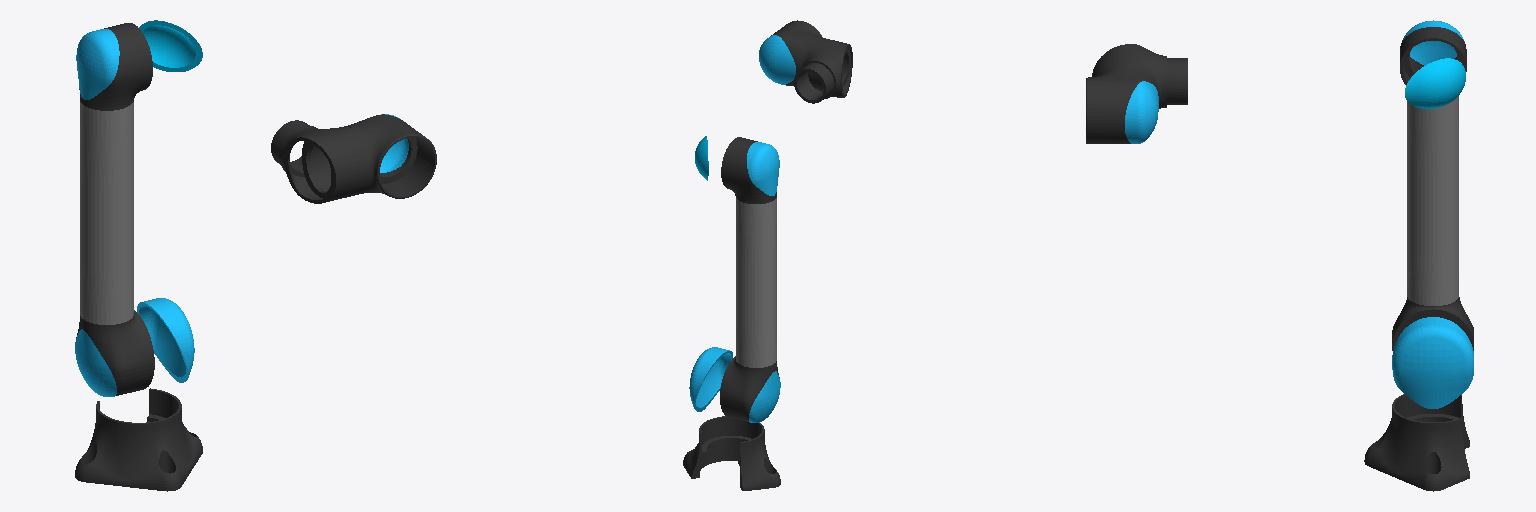
The robot description file, URDF, robot "obot_urdf":
<?xml version="1.0" ?>
<!-- =================================================================================== -->
<!-- |    This document was autogenerated by xacro from urdf/obot_urdf.xacro        | -->
<!-- |    EDITING THIS FILE BY HAND IS NOT RECOMMENDED                                 | -->
<!-- =================================================================================== -->
<robot name="obot_urdf">
  <material name="Aluminum - Anodized Rough (Grey)">
    <color rgba="0.5372549019607843 0.5372549019607843 0.5372549019607843 1.0"/>
  </material>
  <material name="Steel - Satin">
    <color rgba="0.6274509803921569 0.6274509803921569 0.6274509803921569 1.0"/>
  </material>
  <material name="black">
    <color rgba="0.25098039215686274 0.25098039215686274 0.25098039215686274 1.0"/>
  </material>
  <material name="Opaque(39,196,255)">
    <color rgba="0.15294117647058825 0.7686274509803922 1.0 1.0"/>
  </material>
  <material name="aluminum">
    <color rgba="0.5372549019607843 0.5372549019607843 0.5372549019607843 1.0"/>
  </material>
  <material name="blue2">
    <color rgba="0.058823529411764705 0.8 1.0 1.0"/>
  </material>
  <material name="blue1">
    <color rgba="0.15294117647058825 0.7686274509803922 1.0 1.0"/>
  </material>
  <transmission name="j1_tran">
    <type>transmission_interface/SimpleTransmission</type>
    <joint name="j1">
      <hardwareInterface>hardware_interface/EffortJointInterface</hardwareInterface>
    </joint>
    <actuator name="j1_actr">
      <hardwareInterface>hardware_interface/EffortJointInterface</hardwareInterface>
      <mechanicalReduction>1</mechanicalReduction>
    </actuator>
  </transmission>
  <transmission name="j2_tran">
    <type>transmission_interface/SimpleTransmission</type>
    <joint name="j2">
      <hardwareInterface>hardware_interface/EffortJointInterface</hardwareInterface>
    </joint>
    <actuator name="j2_actr">
      <hardwareInterface>hardware_interface/EffortJointInterface</hardwareInterface>
      <mechanicalReduction>1</mechanicalReduction>
    </actuator>
  </transmission>
  <transmission name="j3_tran">
    <type>transmission_interface/SimpleTransmission</type>
    <joint name="j3">
      <hardwareInterface>hardware_interface/EffortJointInterface</hardwareInterface>
    </joint>
    <actuator name="j3_actr">
      <hardwareInterface>hardware_interface/EffortJointInterface</hardwareInterface>
      <mechanicalReduction>1</mechanicalReduction>
    </actuator>
  </transmission>
  <transmission name="j0_tran">
    <type>transmission_interface/SimpleTransmission</type>
    <joint name="j0">
      <hardwareInterface>hardware_interface/EffortJointInterface</hardwareInterface>
    </joint>
    <actuator name="j0_actr">
      <hardwareInterface>hardware_interface/EffortJointInterface</hardwareInterface>
      <mechanicalReduction>1</mechanicalReduction>
    </actuator>
  </transmission>
  <transmission name="j4_tran">
    <type>transmission_interface/SimpleTransmission</type>
    <joint name="j4">
      <hardwareInterface>hardware_interface/EffortJointInterface</hardwareInterface>
    </joint>
    <actuator name="j4_actr">
      <hardwareInterface>hardware_interface/EffortJointInterface</hardwareInterface>
      <mechanicalReduction>1</mechanicalReduction>
    </actuator>
  </transmission>
  <gazebo>
    <plugin filename="libgazebo_ros_control.so" name="control"/>
  </gazebo>
  <gazebo reference="base_link">
    <material>Gazebo/Silver</material>
    <mu1>0.2</mu1>
    <mu2>0.2</mu2>
    <selfCollide>true</selfCollide>
    <gravity>true</gravity>
  </gazebo>
  <gazebo reference="OS_Shoulder_connector_06c_1">
    <material>Gazebo/Silver</material>
    <mu1>0.2</mu1>
    <mu2>0.2</mu2>
    <selfCollide>true</selfCollide>
  </gazebo>
  <gazebo reference="OS_Connector_shoulder_08_1">
    <material>Gazebo/Silver</material>
    <mu1>0.2</mu1>
    <mu2>0.2</mu2>
    <selfCollide>true</selfCollide>
  </gazebo>
  <gazebo reference="OS_Wrist_connector_01_1">
    <material>Gazebo/Silver</material>
    <mu1>0.2</mu1>
    <mu2>0.2</mu2>
    <selfCollide>true</selfCollide>
  </gazebo>
  <gazebo reference="OS_Shoulder_connector_01d_1">
    <material>Gazebo/Silver</material>
    <mu1>0.2</mu1>
    <mu2>0.2</mu2>
    <selfCollide>true</selfCollide>
  </gazebo>
  <gazebo reference="OS_Tool_Adapter_1">
    <material>Gazebo/Silver</material>
    <mu1>0.2</mu1>
    <mu2>0.2</mu2>
    <selfCollide>true</selfCollide>
  </gazebo>
  <gazebo reference="OS_Upper_arm_tube_1">
    <material>Gazebo/Silver</material>
    <mu1>0.2</mu1>
    <mu2>0.2</mu2>
    <selfCollide>true</selfCollide>
  </gazebo>
  <gazebo reference="OS_Connector_Elbow_07b_1">
    <material>Gazebo/Silver</material>
    <mu1>0.2</mu1>
    <mu2>0.2</mu2>
    <selfCollide>true</selfCollide>
  </gazebo>
  <gazebo reference="OS_Upper_arm_tube_2">
    <material>Gazebo/Silver</material>
    <mu1>0.2</mu1>
    <mu2>0.2</mu2>
    <selfCollide>true</selfCollide>
  </gazebo>
  <gazebo reference="OS_Connector_Elbow_07e_1">
    <material>Gazebo/Silver</material>
    <mu1>0.2</mu1>
    <mu2>0.2</mu2>
    <selfCollide>true</selfCollide>
  </gazebo>
  <link name="/base_link">
    <inertial>
      <origin rpy="0 0 0" xyz="5.788644740024379e-16 -1.1926662407975113e-07 0.019419883704314026"/>
      <mass value="1.0327024293593068"/>
      <inertia ixx="0.001299" ixy="-0.0" ixz="-0.0" iyy="0.001299" iyz="0.0" izz="0.002125"/>
    </inertial>
    <visual>
      <origin rpy="0 0 0" xyz="0 0 0"/>
      <geometry>
        <mesh filename="package://obot_urdf_description/meshes/base_link_obot_urdf v0_Body1_base_link.stl" scale="0.001 0.001 0.001"/>
      </geometry>
      <material name="black">
        <color rgba="0.25098039215686274 0.25098039215686274 0.25098039215686274 1.0"/>
      </material>
    </visual>
    <visual>
      <origin rpy="0 0 0" xyz="0 0 0"/>
      <geometry>
        <mesh filename="package://obot_urdf_description/meshes/base_link_obot_urdf v0_Body2_base_link.stl" scale="0.001 0.001 0.001"/>
      </geometry>
      <material name="black">
        <color rgba="0.25098039215686274 0.25098039215686274 0.25098039215686274 1.0"/>
      </material>
    </visual>
    <collision>
      <origin rpy="0 0 0" xyz="0 0 0"/>
      <geometry>
        <mesh filename="package://obot_urdf_description/meshes/base_link.stl" scale="0.001 0.001 0.001"/>
      </geometry>
    </collision>
  </link>
  <link name="/OS_Shoulder_connector_06c_1">
    <inertial>
      <origin rpy="0 0 0" xyz="-0.03039370289078793 1.3251316521099543e-08 0.010093838443597597"/>
      <mass value="0.5649312746649212"/>
      <inertia ixx="0.000733" ixy="0.0" ixz="-4e-06" iyy="0.000572" iyz="-0.0" izz="0.000368"/>
    </inertial>
    <visual>
      <origin rpy="0 0 0" xyz="0.006 0.0 -0.1215"/>
      <geometry>
        <mesh filename="package://obot_urdf_description/meshes/OS_Shoulder_connector_06c_1_obot_urdf v0_Body1_OS_Shoulder_connector_06c_1.stl" scale="0.001 0.001 0.001"/>
      </geometry>
      <material name="black">
        <color rgba="0.25098039215686274 0.25098039215686274 0.25098039215686274 1.0"/>
      </material>
    </visual>
    <visual>
      <origin rpy="0 0 0" xyz="0.006 0.0 -0.1215"/>
      <geometry>
        <mesh filename="package://obot_urdf_description/meshes/OS_Shoulder_connector_06c_1_obot_urdf v0_Body2_OS_Shoulder_connector_06c_1.stl" scale="0.001 0.001 0.001"/>
      </geometry>
      <material name="blue1">
        <color rgba="0.15294117647058825 0.7686274509803922 1.0 1.0"/>
      </material>
    </visual>
    <collision>
      <origin rpy="0 0 0" xyz="0.006 0.0 -0.1215"/>
      <geometry>
        <mesh filename="package://obot_urdf_description/meshes/OS_Shoulder_connector_06c_1.stl" scale="0.001 0.001 0.001"/>
      </geometry>
    </collision>
  </link>
  <link name="/OS_Connector_shoulder_08_1">
    <inertial>
      <origin rpy="0 0 0" xyz="0.027309309346106102 -0.013048790283129138 1.9964691722051953e-07"/>
      <mass value="0.4676784438857144"/>
      <inertia ixx="0.000444" ixy="3.4e-05" ixz="-0.0" iyy="0.000267" iyz="0.0" izz="0.000407"/>
    </inertial>
    <visual>
      <origin rpy="0 0 0" xyz="0.0035 0.0 -0.4215"/>
      <geometry>
        <mesh filename="package://obot_urdf_description/meshes/OS_Connector_shoulder_08_1_obot_urdf v0_Body1_OS_Connector_shoulder_08_1.stl" scale="0.001 0.001 0.001"/>
      </geometry>
      <material name="black">
        <color rgba="0.25098039215686274 0.25098039215686274 0.25098039215686274 1.0"/>
      </material>
    </visual>
    <visual>
      <origin rpy="0 0 0" xyz="0.0035 0.0 -0.4215"/>
      <geometry>
        <mesh filename="package://obot_urdf_description/meshes/OS_Connector_shoulder_08_1_obot_urdf v0_Body2_OS_Connector_shoulder_08_1.stl" scale="0.001 0.001 0.001"/>
      </geometry>
      <material name="blue2">
        <color rgba="0.058823529411764705 0.8 1.0 1.0"/>
      </material>
    </visual>
    <collision>
      <origin rpy="0 0 0" xyz="0.0035 0.0 -0.4215"/>
      <geometry>
        <mesh filename="package://obot_urdf_description/meshes/OS_Connector_shoulder_08_1.stl" scale="0.001 0.001 0.001"/>
      </geometry>
    </collision>
  </link>
  <link name="/OS_Wrist_connector_01_1">
    <inertial>
      <origin rpy="0 0 0" xyz="0.0285588469364604 -0.0004577057160622955 8.041520321855344e-08"/>
      <mass value="0.4901478983667687"/>
      <inertia ixx="0.000409" ixy="-3e-06" ixz="0.0" iyy="0.000463" iyz="-0.0" izz="0.00043"/>
    </inertial>
    <visual>
      <origin rpy="0 0 0" xyz="-0.0583 0.3 -0.4215"/>
      <geometry>
        <mesh filename="package://obot_urdf_description/meshes/OS_Wrist_connector_01_1_obot_urdf v0_Body1_OS_Wrist_connector_01_1.stl" scale="0.001 0.001 0.001"/>
      </geometry>
      <material name="black">
        <color rgba="0.25098039215686274 0.25098039215686274 0.25098039215686274 1.0"/>
      </material>
    </visual>
    <visual>
      <origin rpy="0 0 0" xyz="-0.0583 0.3 -0.4215"/>
      <geometry>
        <mesh filename="package://obot_urdf_description/meshes/OS_Wrist_connector_01_1_obot_urdf v0_Body2_OS_Wrist_connector_01_1.stl" scale="0.001 0.001 0.001"/>
      </geometry>
      <material name="blue1">
        <color rgba="0.15294117647058825 0.7686274509803922 1.0 1.0"/>
      </material>
    </visual>
    <collision>
      <origin rpy="0 0 0" xyz="-0.0583 0.3 -0.4215"/>
      <geometry>
        <mesh filename="package://obot_urdf_description/meshes/OS_Wrist_connector_01_1.stl" scale="0.001 0.001 0.001"/>
      </geometry>
    </collision>
  </link>
  <link name="/OS_Shoulder_connector_01d_1">
    <inertial>
      <origin rpy="0 0 0" xyz="0.012959388753636114 2.1853349424144736e-08 0.04081897310032624"/>
      <mass value="0.7652200389336291"/>
      <inertia ixx="0.001161" ixy="0.0" ixz="-0.000189" iyy="0.001026" iyz="-0.0" izz="0.00086"/>
    </inertial>
    <visual>
      <origin rpy="0 0 0" xyz="0.0 0.0 -0.0605"/>
      <geometry>
        <mesh filename="package://obot_urdf_description/meshes/OS_Shoulder_connector_01d_1_obot_urdf v0_Body1_OS_Shoulder_connector_01d_1.stl" scale="0.001 0.001 0.001"/>
      </geometry>
      <material name="blue1">
        <color rgba="0.15294117647058825 0.7686274509803922 1.0 1.0"/>
      </material>
    </visual>
    <visual>
      <origin rpy="0 0 0" xyz="0.0 0.0 -0.0605"/>
      <geometry>
        <mesh filename="package://obot_urdf_description/meshes/OS_Shoulder_connector_01d_1_obot_urdf v0_Body2_OS_Shoulder_connector_01d_1.stl" scale="0.001 0.001 0.001"/>
      </geometry>
      <material name="black">
        <color rgba="0.25098039215686274 0.25098039215686274 0.25098039215686274 1.0"/>
      </material>
    </visual>
    <collision>
      <origin rpy="0 0 0" xyz="0.0 0.0 -0.0605"/>
      <geometry>
        <mesh filename="package://obot_urdf_description/meshes/OS_Shoulder_connector_01d_1.stl" scale="0.001 0.001 0.001"/>
      </geometry>
    </collision>
  </link>
  <link name="/OS_Tool_Adapter_1">
    <inertial>
      <origin rpy="0 0 0" xyz="2.4091839634365897e-14 -0.012369036341301598 -8.212593333412066e-05"/>
      <mass value="0.4113331685848012"/>
      <inertia ixx="0.000148" ixy="0.0" ixz="-0.0" iyy="0.000256" iyz="-0.0" izz="0.000149"/>
    </inertial>
    <visual>
      <origin rpy="0 0 0" xyz="-0.0943 0.3385 -0.4215"/>
      <geometry>
        <mesh filename="package://obot_urdf_description/meshes/OS_Tool_Adapter_1_obot_urdf v0_Body1_OS_Tool_Adapter_1.stl" scale="0.001 0.001 0.001"/>
      </geometry>
      <material name="aluminum">
        <color rgba="0.5372549019607843 0.5372549019607843 0.5372549019607843 1.0"/>
      </material>
    </visual>
    <collision>
      <origin rpy="0 0 0" xyz="-0.0943 0.3385 -0.4215"/>
      <geometry>
        <mesh filename="package://obot_urdf_description/meshes/OS_Tool_Adapter_1.stl" scale="0.001 0.001 0.001"/>
      </geometry>
    </collision>
  </link>
  <link name="/OS_Upper_arm_tube_1">
    <inertial>
      <origin rpy="0 0 0" xyz="-3.885780586188048e-16 -1.813439160552377e-15 0.11050000000000013"/>
      <mass value="0.4257953995856516"/>
      <inertia ixx="0.001862" ixy="0.0" ixz="0.0" iyy="0.001862" iyz="0.0" izz="0.000258"/>
    </inertial>
    <visual>
      <origin rpy="0 0 0" xyz="0.0344 0.0 -0.1635"/>
      <geometry>
        <mesh filename="package://obot_urdf_description/meshes/OS_Upper_arm_tube_1_obot_urdf v0_Body1_OS_Upper_arm_tube_1.stl" scale="0.001 0.001 0.001"/>
      </geometry>
      <material name="aluminum">
        <color rgba="0.5372549019607843 0.5372549019607843 0.5372549019607843 1.0"/>
      </material>
    </visual>
    <collision>
      <origin rpy="0 0 0" xyz="0.0344 0.0 -0.1635"/>
      <geometry>
        <mesh filename="package://obot_urdf_description/meshes/OS_Upper_arm_tube_1.stl" scale="0.001 0.001 0.001"/>
      </geometry>
    </collision>
  </link>
  <link name="/OS_Connector_Elbow_07b_1">
    <inertial>
      <origin rpy="0 0 0" xyz="0.00031605452176478727 2.1925606150479413e-07 0.02489388503643264"/>
      <mass value="0.45527867911642017"/>
      <inertia ixx="0.00047" ixy="0.0" ixz="-1e-06" iyy="0.000412" iyz="-0.0" izz="0.00028"/>
    </inertial>
    <visual>
      <origin rpy="0 0 0" xyz="0.0344 0.0 -0.3845"/>
      <geometry>
        <mesh filename="package://obot_urdf_description/meshes/OS_Connector_Elbow_07b_1_obot_urdf v0_Body1_OS_Connector_Elbow_07b_1.stl" scale="0.001 0.001 0.001"/>
      </geometry>
      <material name="black">
        <color rgba="0.25098039215686274 0.25098039215686274 0.25098039215686274 1.0"/>
      </material>
    </visual>
    <visual>
      <origin rpy="0 0 0" xyz="0.0344 0.0 -0.3845"/>
      <geometry>
        <mesh filename="package://obot_urdf_description/meshes/OS_Connector_Elbow_07b_1_obot_urdf v0_Body2_OS_Connector_Elbow_07b_1.stl" scale="0.001 0.001 0.001"/>
      </geometry>
      <material name="blue1">
        <color rgba="0.15294117647058825 0.7686274509803922 1.0 1.0"/>
      </material>
    </visual>
    <collision>
      <origin rpy="0 0 0" xyz="0.0344 0.0 -0.3845"/>
      <geometry>
        <mesh filename="package://obot_urdf_description/meshes/OS_Connector_Elbow_07b_1.stl" scale="0.001 0.001 0.001"/>
      </geometry>
    </collision>
  </link>
  <link name="/OS_Upper_arm_tube_2">
    <inertial>
      <origin rpy="0 0 0" xyz="-1.0304257447302234e-15 -0.11050000000000368 -1.9984014443252818e-15"/>
      <mass value="0.4257953995856516"/>
      <inertia ixx="0.001862" ixy="-0.0" ixz="0.0" iyy="0.000258" iyz="-0.0" izz="0.001862"/>
    </inertial>
    <visual>
      <origin rpy="0 0 0" xyz="-0.0274 0.038 -0.4215"/>
      <geometry>
        <mesh filename="package://obot_urdf_description/meshes/OS_Upper_arm_tube_2_obot_urdf v0_Body1_OS_Upper_arm_tube_2.stl" scale="0.001 0.001 0.001"/>
      </geometry>
      <material name="aluminum">
        <color rgba="0.5372549019607843 0.5372549019607843 0.5372549019607843 1.0"/>
      </material>
    </visual>
    <collision>
      <origin rpy="0 0 0" xyz="-0.0274 0.038 -0.4215"/>
      <geometry>
        <mesh filename="package://obot_urdf_description/meshes/OS_Upper_arm_tube_2.stl" scale="0.001 0.001 0.001"/>
      </geometry>
    </collision>
  </link>
  <link name="/OS_Connector_Elbow_07e_1">
    <inertial>
      <origin rpy="0 0 0" xyz="-0.0028719702836169196 -0.027561945003886867 5.652840506797929e-08"/>
      <mass value="0.5104652508454282"/>
      <inertia ixx="0.000561" ixy="-2.9e-05" ixz="-0.0" iyy="0.000353" iyz="-0.0" izz="0.000515"/>
    </inertial>
    <visual>
      <origin rpy="0 0 0" xyz="-0.0274 0.259 -0.4215"/>
      <geometry>
        <mesh filename="package://obot_urdf_description/meshes/OS_Connector_Elbow_07e_1_obot_urdf v0_Body1_OS_Connector_Elbow_07e_1.stl" scale="0.001 0.001 0.001"/>
      </geometry>
      <material name="black">
        <color rgba="0.25098039215686274 0.25098039215686274 0.25098039215686274 1.0"/>
      </material>
    </visual>
    <visual>
      <origin rpy="0 0 0" xyz="-0.0274 0.259 -0.4215"/>
      <geometry>
        <mesh filename="package://obot_urdf_description/meshes/OS_Connector_Elbow_07e_1_obot_urdf v0_Body2_OS_Connector_Elbow_07e_1.stl" scale="0.001 0.001 0.001"/>
      </geometry>
      <material name="blue1">
        <color rgba="0.15294117647058825 0.7686274509803922 1.0 1.0"/>
      </material>
    </visual>
    <collision>
      <origin rpy="0 0 0" xyz="-0.0274 0.259 -0.4215"/>
      <geometry>
        <mesh filename="package://obot_urdf_description/meshes/OS_Connector_Elbow_07e_1.stl" scale="0.001 0.001 0.001"/>
      </geometry>
    </collision>
  </link>
  <joint name="j1" type="continuous">
    <origin rpy="0 0 0" xyz="-0.006 0.0 0.061"/>
    <parent link="/OS_Shoulder_connector_01d_1"/>
    <child link="/OS_Shoulder_connector_06c_1"/>
    <axis xyz="-1.0 0.0 -0.0"/>
  </joint>
  <joint name="j2" type="continuous">
    <origin rpy="0 0 0" xyz="0.0309 0.0 0.037"/>
    <parent link="/OS_Connector_Elbow_07b_1"/>
    <child link="/OS_Connector_shoulder_08_1"/>
    <axis xyz="1.0 -0.0 0.0"/>
  </joint>
  <joint name="j3" type="continuous">
    <origin rpy="0 0 0" xyz="0.0309 -0.041 0.0"/>
    <parent link="/OS_Connector_Elbow_07e_1"/>
    <child link="/OS_Wrist_connector_01_1"/>
    <axis xyz="-1.0 0.0 -0.0"/>
  </joint>
  <joint name="j0" type="continuous">
    <origin rpy="0 0 0" xyz="0.0 0.0 0.0605"/>
    <parent link="/base_link"/>
    <child link="/OS_Shoulder_connector_01d_1"/>
    <axis xyz="0.0 0.0 -1.0"/>
  </joint>
  <joint name="j4" type="continuous">
    <origin rpy="0 0 0" xyz="0.036 -0.0385 0.0"/>
    <parent link="/OS_Wrist_connector_01_1"/>
    <child link="/OS_Tool_Adapter_1"/>
    <axis xyz="-0.0 -1.0 -0.0"/>
  </joint>
  <joint name="Rigid10" type="fixed">
    <origin rpy="0 0 0" xyz="-0.0284 0.0 0.042"/>
    <parent link="/OS_Shoulder_connector_06c_1"/>
    <child link="/OS_Upper_arm_tube_1"/>
  </joint>
  <joint name="Rigid11" type="fixed">
    <origin rpy="0 0 0" xyz="0.0 0.0 0.221"/>
    <parent link="/OS_Upper_arm_tube_1"/>
    <child link="/OS_Connector_Elbow_07b_1"/>
  </joint>
  <joint name="Rigid12" type="fixed">
    <origin rpy="0 0 0" xyz="0.0309 -0.038 0.0"/>
    <parent link="/OS_Connector_shoulder_08_1"/>
    <child link="/OS_Upper_arm_tube_2"/>
  </joint>
  <joint name="Rigid13" type="fixed">
    <origin rpy="0 0 0" xyz="0.0 -0.221 0.0"/>
    <parent link="/OS_Upper_arm_tube_2"/>
    <child link="/OS_Connector_Elbow_07e_1"/>
  </joint>
</robot>

--- Render facts (derived) ---
3 views of the same robot in one strip: view 1: azimuth 30°, elevation 25°; view 2: azimuth 150°, elevation 25°; view 3: azimuth 270°, elevation 25° (orthographic).
Model obot_urdf with 10 links and 9 joints (5 continuous, 4 fixed), rooted at /base_link, posed all joints at 0.
Links seen in each view (by area): view 1: /OS_Upper_arm_tube_1, /base_link, /OS_Connector_Elbow_07e_1, /OS_Connector_Elbow_07b_1, /OS_Shoulder_connector_06c_1, /OS_Wrist_connector_01_1, /OS_Shoulder_connector_01d_1, /OS_Connector_shoulder_08_1; view 2: /OS_Upper_arm_tube_1, /base_link, /OS_Connector_Elbow_07b_1, /OS_Connector_Elbow_07e_1, /OS_Shoulder_connector_06c_1, /OS_Wrist_connector_01_1, /OS_Shoulder_connector_01d_1; view 3: /OS_Upper_arm_tube_1, /base_link, /OS_Shoulder_connector_01d_1, /OS_Wrist_connector_01_1, /OS_Connector_Elbow_07e_1, /OS_Connector_Elbow_07b_1, /OS_Connector_shoulder_08_1, /OS_Shoulder_connector_06c_1.
Link boxes in pixels (<box>): /OS_Upper_arm_tube_1: <box>80,102,133,324</box>; /base_link: <box>75,388,202,491</box>; /OS_Connector_Elbow_07e_1: <box>271,120,369,203</box>; /OS_Connector_Elbow_07b_1: <box>76,23,152,110</box>; /OS_Shoulder_connector_06c_1: <box>75,310,154,396</box>; /OS_Wrist_connector_01_1: <box>348,114,436,198</box>; /OS_Shoulder_connector_01d_1: <box>137,298,194,382</box>; /OS_Connector_shoulder_08_1: <box>139,20,202,71</box>; /OS_Upper_arm_tube_1: <box>736,198,776,367</box>; /base_link: <box>683,416,780,490</box>; /OS_Connector_Elbow_07b_1: <box>721,137,779,203</box>; /OS_Connector_Elbow_07e_1: <box>794,37,852,103</box>; /OS_Shoulder_connector_06c_1: <box>720,356,780,422</box>; /OS_Wrist_connector_01_1: <box>759,20,822,85</box>; /OS_Shoulder_connector_01d_1: <box>689,347,732,411</box>; /OS_Upper_arm_tube_1: <box>1407,96,1458,305</box>; /base_link: <box>1364,394,1469,491</box>; /OS_Shoulder_connector_01d_1: <box>1392,317,1473,408</box>; /OS_Wrist_connector_01_1: <box>1086,65,1158,143</box>; /OS_Connector_Elbow_07e_1: <box>1092,44,1187,108</box>; /OS_Connector_Elbow_07b_1: <box>1400,20,1466,84</box>; /OS_Connector_shoulder_08_1: <box>1405,58,1465,108</box>; /OS_Shoulder_connector_06c_1: <box>1392,297,1473,350</box>.
Bounding box of the posed robot: 0.1938 × 0.3785 × 0.454 m (x, y, z).
Meshes: 17 distinct files referenced, 11 mesh visuals loaded (11 binary STL); not drawn: 6 (reference not matched to a file when rendering).
